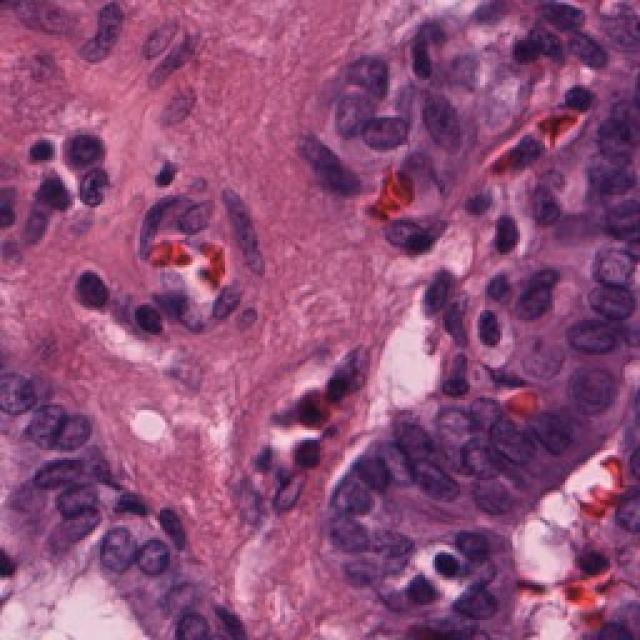abnormal: (392, 428, 476, 508), (560, 353, 625, 432), (576, 215, 640, 295), (560, 302, 633, 370), (352, 102, 428, 166), (130, 520, 190, 598), (474, 413, 554, 470), (313, 508, 382, 572), (420, 389, 483, 459), (460, 464, 530, 519), (100, 520, 145, 597), (323, 471, 390, 521), (22, 395, 73, 455), (515, 325, 567, 382)
